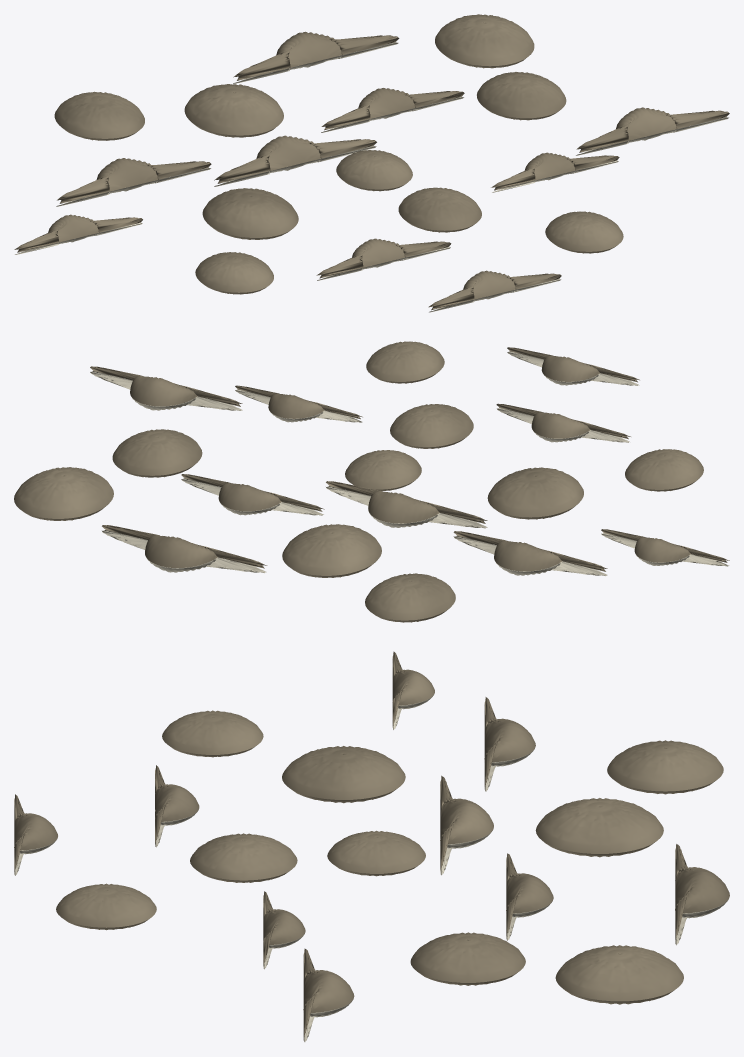
Rendered from brachiopod-bed-v2.lod1.glb.
The picture shows the model from 3 angles, top to bottom: view 1: azimuth 30°, elevation 25°; view 2: azimuth 150°, elevation 25°; view 3: azimuth 270°, elevation 25°; orthographic projection. The views are drawn at different scales.
Parts seen in each view (by area): view 1: brachiopod-bed-v2; view 2: brachiopod-bed-v2; view 3: brachiopod-bed-v2.
Boxes of the visible parts, x1,y1,x2,y2 form: brachiopod-bed-v2: [14, 14, 729, 312]; brachiopod-bed-v2: [14, 341, 729, 622]; brachiopod-bed-v2: [14, 651, 729, 1041].
Bounding box in the file's own units: 0.2506 × 0.0121 × 0.1968.
